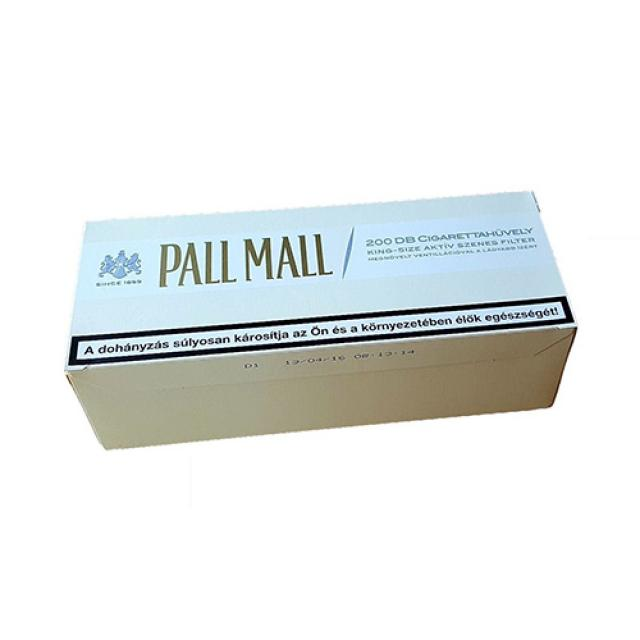pallmall: (61, 192, 583, 459)
